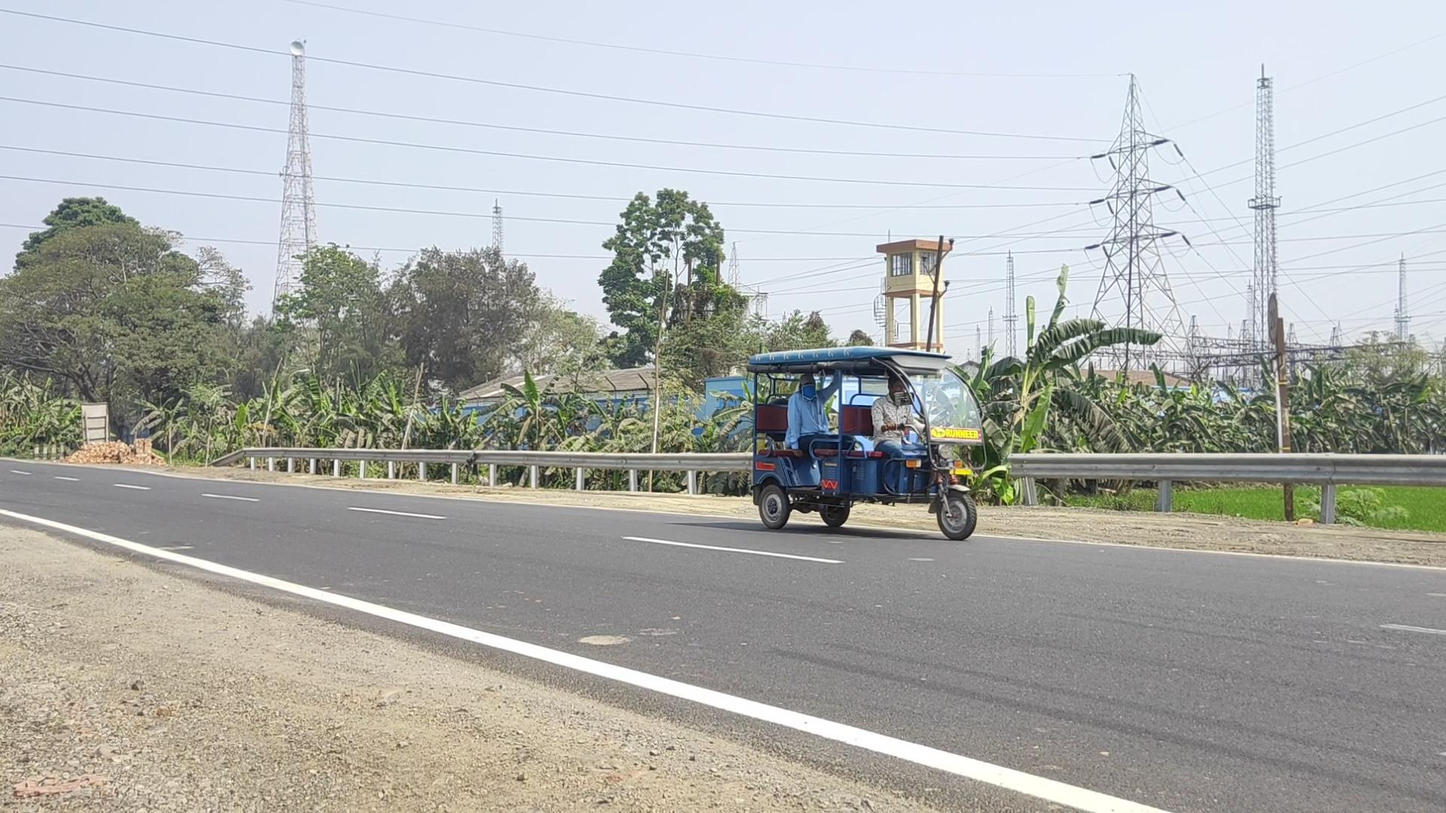Auto: (749, 346, 987, 541)
